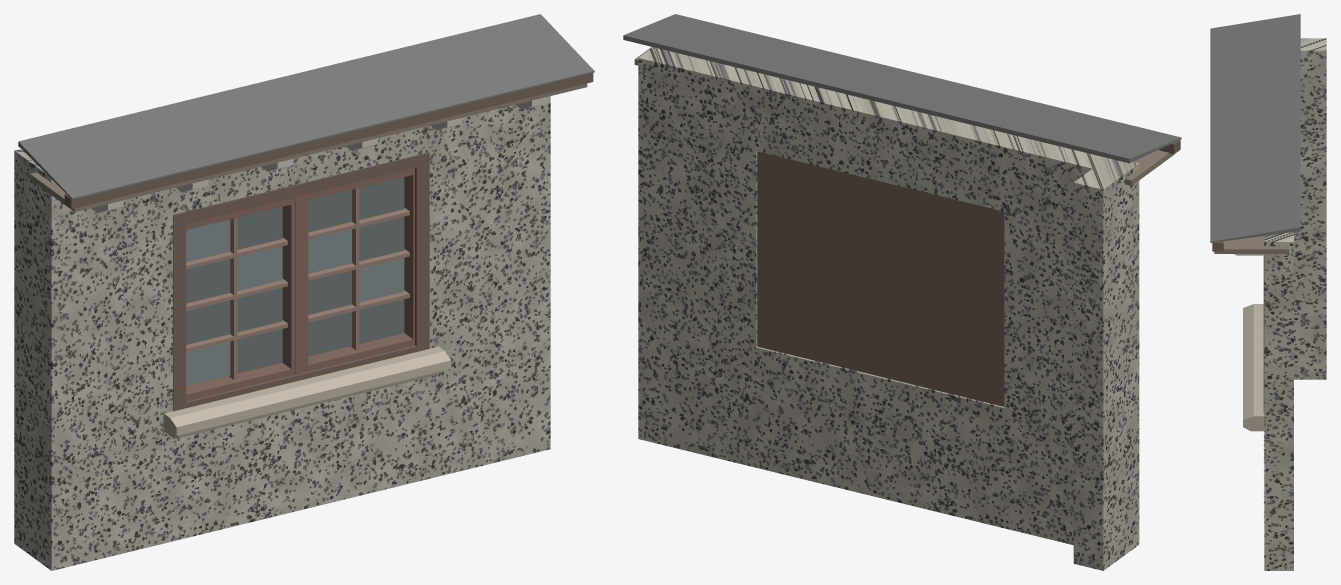
Rendered from gaolan-28-aggregate-casement-far.glb.
The picture shows the model from 3 angles, left to right: view 1: azimuth 30°, elevation 25°; view 2: azimuth 150°, elevation 25°; view 3: azimuth 270°, elevation 25°; orthographic projection. The views are drawn at different scales.
Visible parts, largest first — view 1: 皋兰路28号住宅庭院侧石粒墙与分格木窗; view 2: 皋兰路28号住宅庭院侧石粒墙与分格木窗; view 3: 皋兰路28号住宅庭院侧石粒墙与分格木窗.
Part boxes in pixels (box(x1,y1,x2,y2)): 皋兰路28号住宅庭院侧石粒墙与分格木窗: box(14, 14, 594, 570); 皋兰路28号住宅庭院侧石粒墙与分格木窗: box(623, 14, 1181, 570); 皋兰路28号住宅庭院侧石粒墙与分格木窗: box(1210, 14, 1326, 570).
Size of the model in its own units: 3.89 by 2.97 by 0.896.
12 materials, 1 textured.
